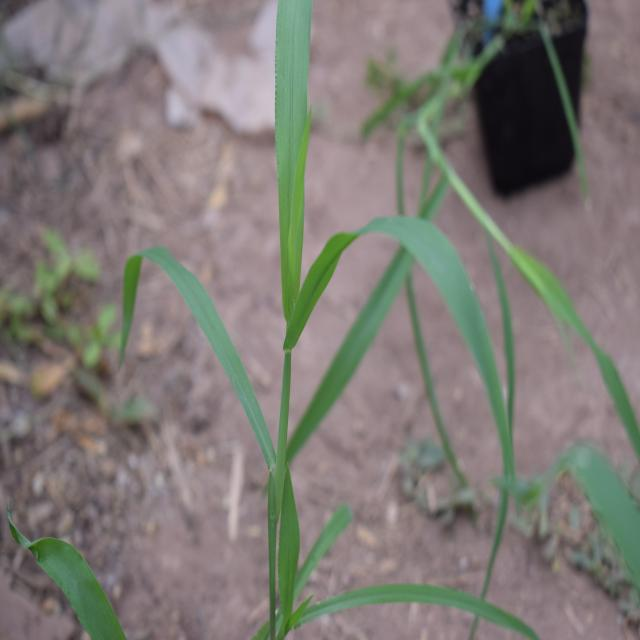crabgrass: (142, 12, 516, 610)
